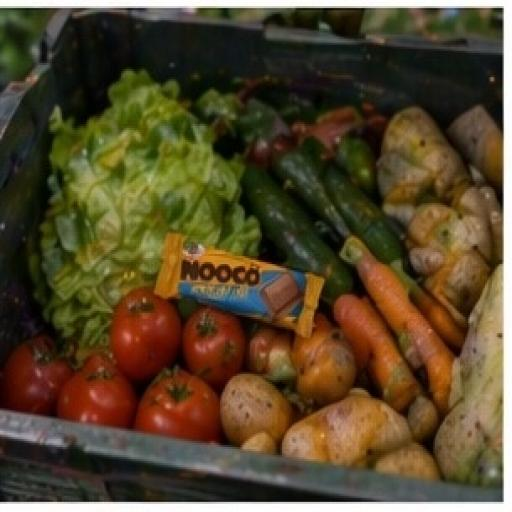nooco: (147, 205, 333, 372)
